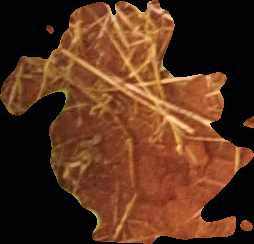soil: (2, 1, 254, 243)
